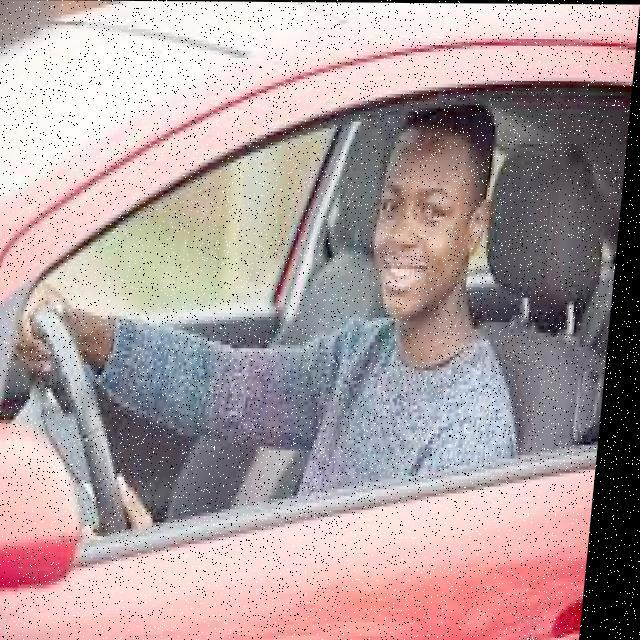noSeatbelt: (278, 290, 527, 540)
